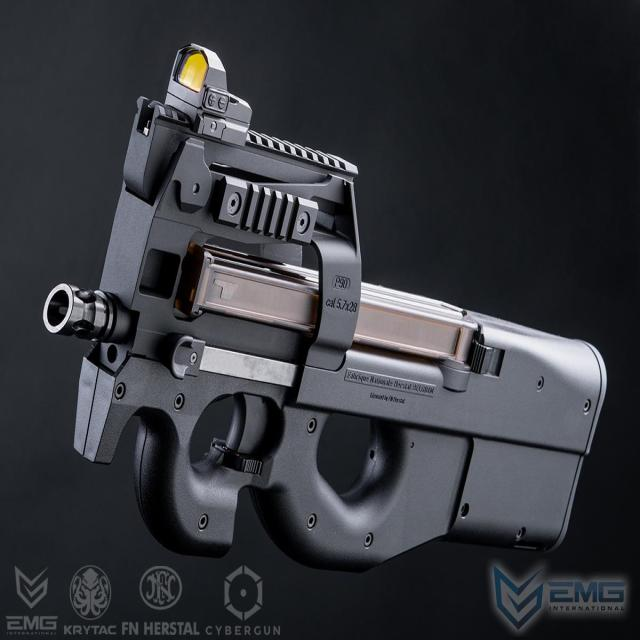SMG: (42, 45, 608, 576)
